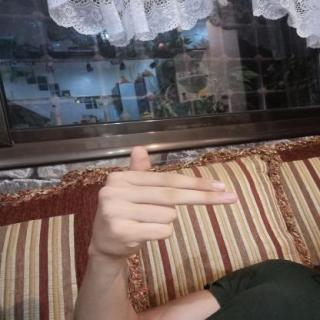GHAYN: (79, 140, 248, 263)
